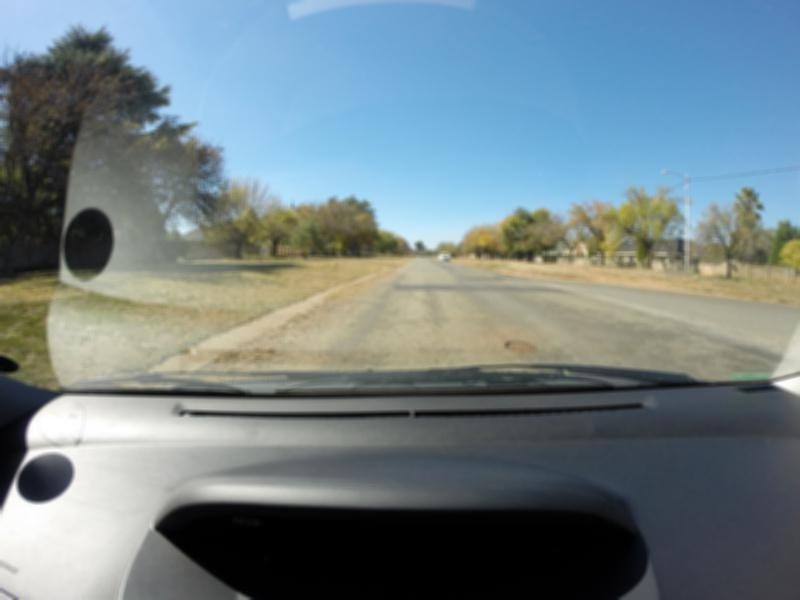pothole: (504, 336, 546, 352)
